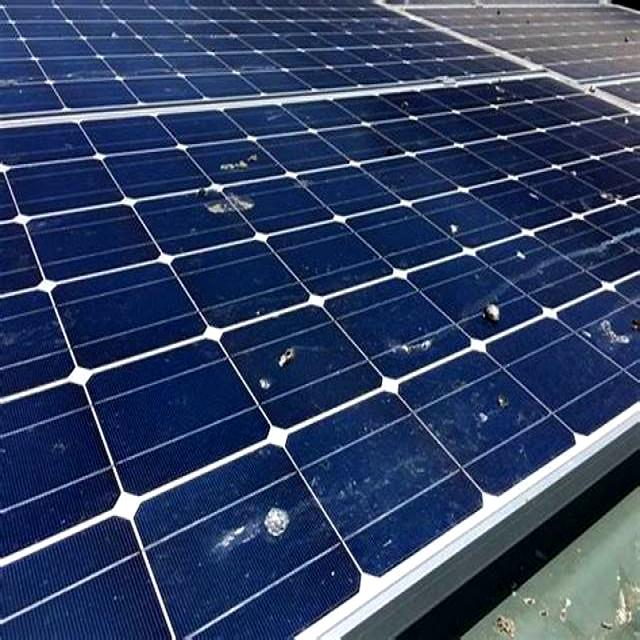bird: (234, 476, 300, 553), (190, 188, 266, 228), (250, 340, 310, 390), (590, 304, 640, 359), (372, 329, 438, 362), (469, 394, 522, 432), (594, 172, 634, 218), (204, 145, 264, 175), (476, 289, 506, 346), (505, 238, 536, 276), (446, 207, 466, 249)
